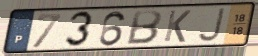3: (62, 10, 97, 49)
6: (98, 9, 127, 47)
7: (34, 12, 63, 49)
B: (124, 9, 163, 45)
J: (195, 7, 227, 44)
K: (162, 9, 193, 44)
